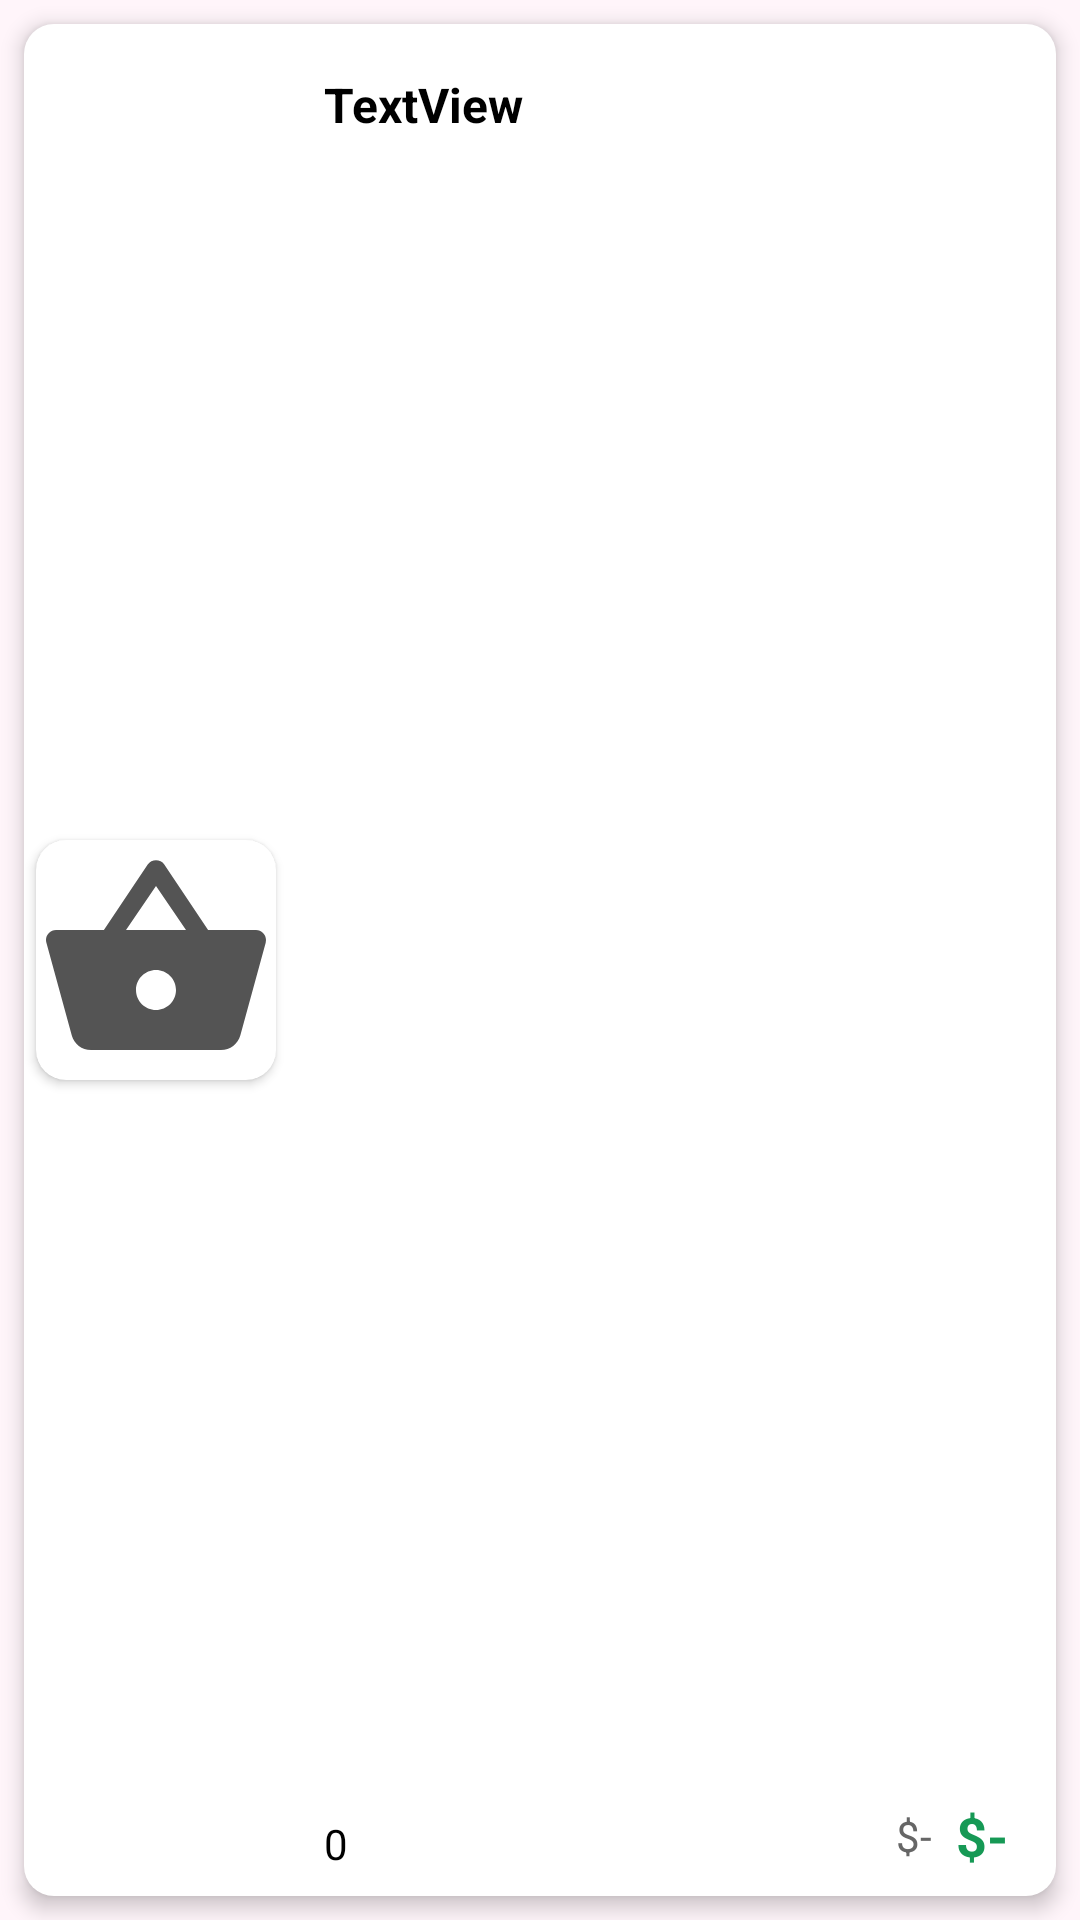

Icons on this 1080*1920 Android screen, each with the point to tap as (x=x, y=y):
shopping basket: (x=155, y=967)
